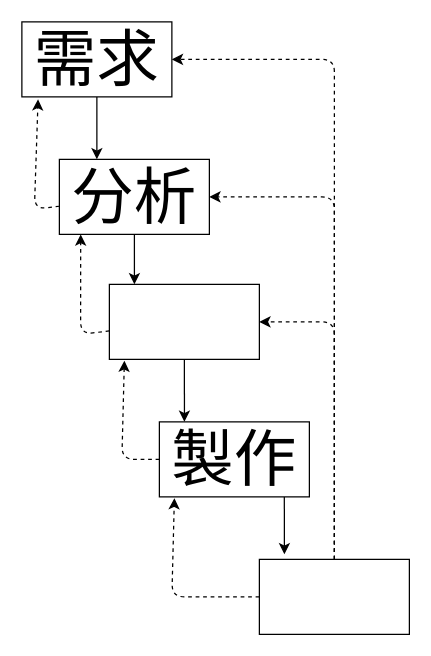
Image size: 431x656. Some labels were removed from this diagram. Here are the shapes that lost their labels. From the top down, the centre of each, then its label:
At (x=183, y=321): "設計".
At (x=333, y=596): "維護".
